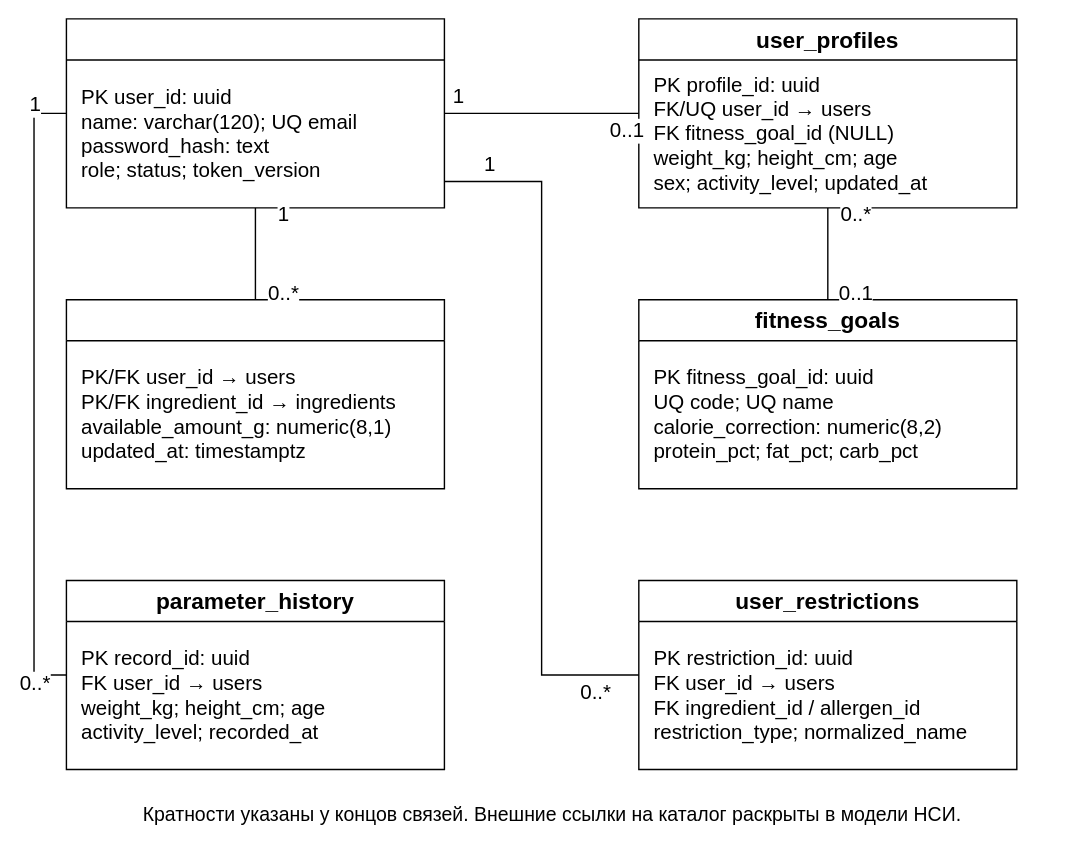
Some shapes in this 1083 by 861 pixel diagram are drawn without their labels. Each missing label, with the box of its shape:
available_ingredients: (65, 299, 445, 489)
users: (65, 18, 445, 208)
